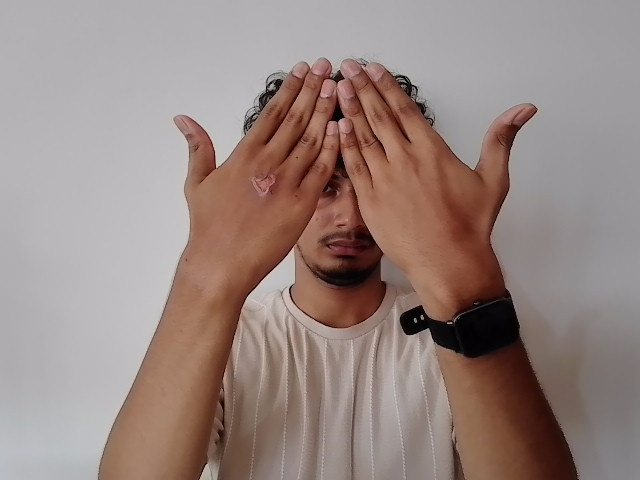thankyou: (167, 54, 542, 281)
